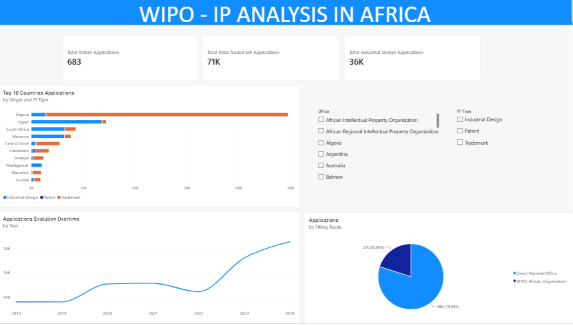

Layout of this report page (visuals, bound fields, positions):
{"tool":"powerbi","page":{"name":"Page 1","canvas":[1920,1080],"ordinal":0},"visuals":[{"type":"barChart","fields":{"Category":["all_ip_data.Origin"],"Series":["all_ip_data.IP Type"],"Y":["Sum(all_ip_data.Applications)"]},"box":[0,288,1005,405],"z":0},{"type":"slicer","fields":{"Values":["all_ip_data.Office"]},"box":[1060,364,410,252],"z":1000},{"type":"lineChart","fields":{"Category":["all_ip_data.Year"],"Y":["Sum(all_ip_data.Applications)"]},"box":[0,708,1006,372],"z":2000},{"type":"slicer","fields":{"Values":["all_ip_data.IP Type"]},"box":[1524,364,172,152],"z":3000},{"type":"pieChart","fields":{"Category":["all_ip_data.Filling Route"],"Y":["Sum(all_ip_data.Applications)"]},"box":[1018.3,708.3,902,372],"z":4000},{"type":"shape","box":[0,0,1920,85],"z":5000},{"type":"textbox","box":[0,0,1920,85],"z":6000},{"type":"cardVisual","fields":{"Data":["Sum(all_ip_data.Applications)"]},"box":[214.2,120.8,455,150],"z":7000},{"type":"cardVisual","fields":{"Data":["Sum(all_ip_data.Applications)"]},"box":[681.7,120.8,455,150],"z":8000},{"type":"cardVisual","fields":{"Data":["Sum(all_ip_data.Applications)"]},"box":[1154,120,455,150],"z":9000}]}

Visuals, with their boxes in screenshot pixels (x1, y1, x2, y2), scaled from the page's 1920x1080 canvas onto the 573x325 screenshot:
barChart - all_ip_data.Origin x all_ip_data.IP Type: {"left": 0, "top": 87, "right": 300, "bottom": 209}
slicer - all_ip_data.Office: {"left": 316, "top": 110, "right": 439, "bottom": 185}
lineChart - all_ip_data.Year x Sum(all_ip_data.Applications): {"left": 0, "top": 213, "right": 300, "bottom": 324}
slicer - all_ip_data.IP Type: {"left": 455, "top": 110, "right": 506, "bottom": 155}
pieChart - all_ip_data.Filling Route x Sum(all_ip_data.Applications): {"left": 304, "top": 213, "right": 572, "bottom": 324}
shape: {"left": 0, "top": 0, "right": 572, "bottom": 26}
textbox: {"left": 0, "top": 0, "right": 572, "bottom": 26}
cardVisual - Sum(all_ip_data.Applications): {"left": 64, "top": 36, "right": 200, "bottom": 81}
cardVisual - Sum(all_ip_data.Applications): {"left": 203, "top": 36, "right": 339, "bottom": 81}
cardVisual - Sum(all_ip_data.Applications): {"left": 344, "top": 36, "right": 480, "bottom": 81}
